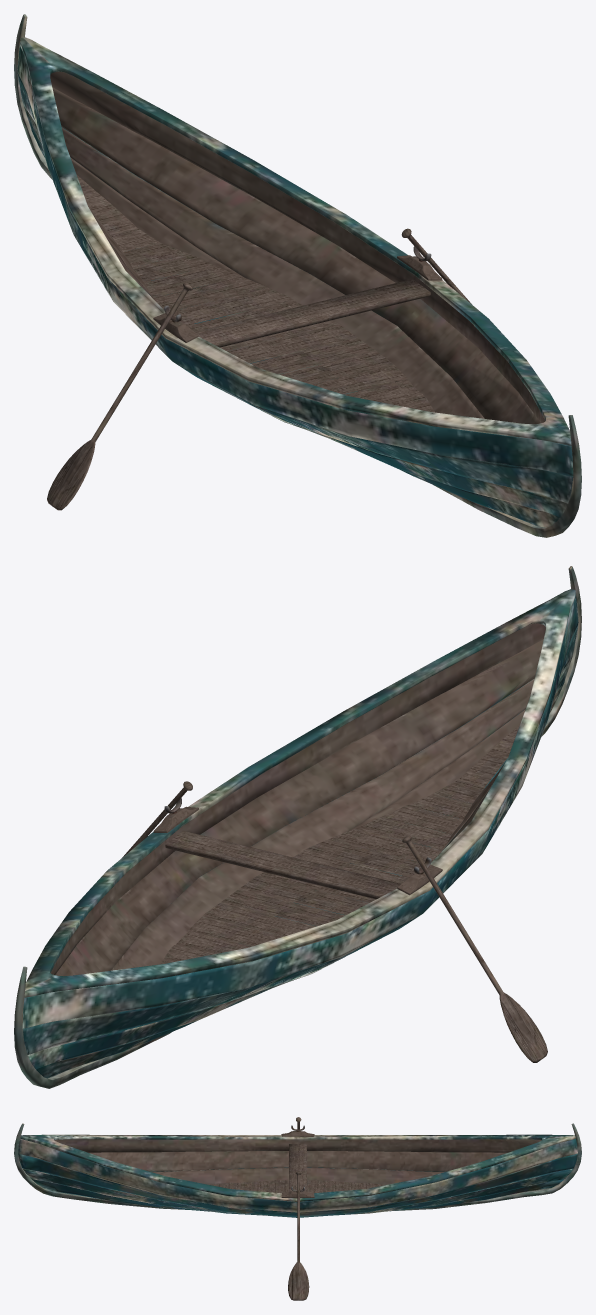
Rendered from boat.glb.
The picture shows the model from 3 angles, top to bottom: view 1: azimuth 30°, elevation 25°; view 2: azimuth 150°, elevation 25°; view 3: azimuth 270°, elevation 25°; orthographic projection. The views are drawn at different scales.
Parts seen in each view (by area): view 1: side_wall_1.001, down_strips_pCube7.001, top_part.001, pSphere1.001, support.001, side_holdings.001; view 2: side_wall_1.001, down_strips_pCube7.001, top_part.001, support.001, pSphere1.001, side_holdings.001; view 3: side_wall_1.001, top_part.001, down_strips_pCube7.001, support.001, pSphere1.001, side_holdings.001.
Part boxes in pixels (<box>): side_wall_1.001: <box>17,42,573,527</box>; down_strips_pCube7.001: <box>77,175,434,412</box>; top_part.001: <box>20,37,571,445</box>; pSphere1.001: <box>47,228,471,510</box>; support.001: <box>14,14,581,537</box>; side_holdings.001: <box>153,255,442,342</box>; side_wall_1.001: <box>22,594,578,1078</box>; down_strips_pCube7.001: <box>160,725,519,964</box>; top_part.001: <box>24,589,575,997</box>; support.001: <box>14,566,581,1088</box>; pSphere1.001: <box>122,781,547,1062</box>; side_holdings.001: <box>153,806,442,895</box>; side_wall_1.001: <box>18,1138,577,1217</box>; top_part.001: <box>20,1134,575,1201</box>; down_strips_pCube7.001: <box>210,1144,385,1193</box>; support.001: <box>14,1123,581,1210</box>; pSphere1.001: <box>288,1117,309,1300</box>; side_holdings.001: <box>281,1131,314,1198</box>.
Size of the model in its own units: 0.502 by 0.2285 by 0.9989.
7 materials, 7 textured.
